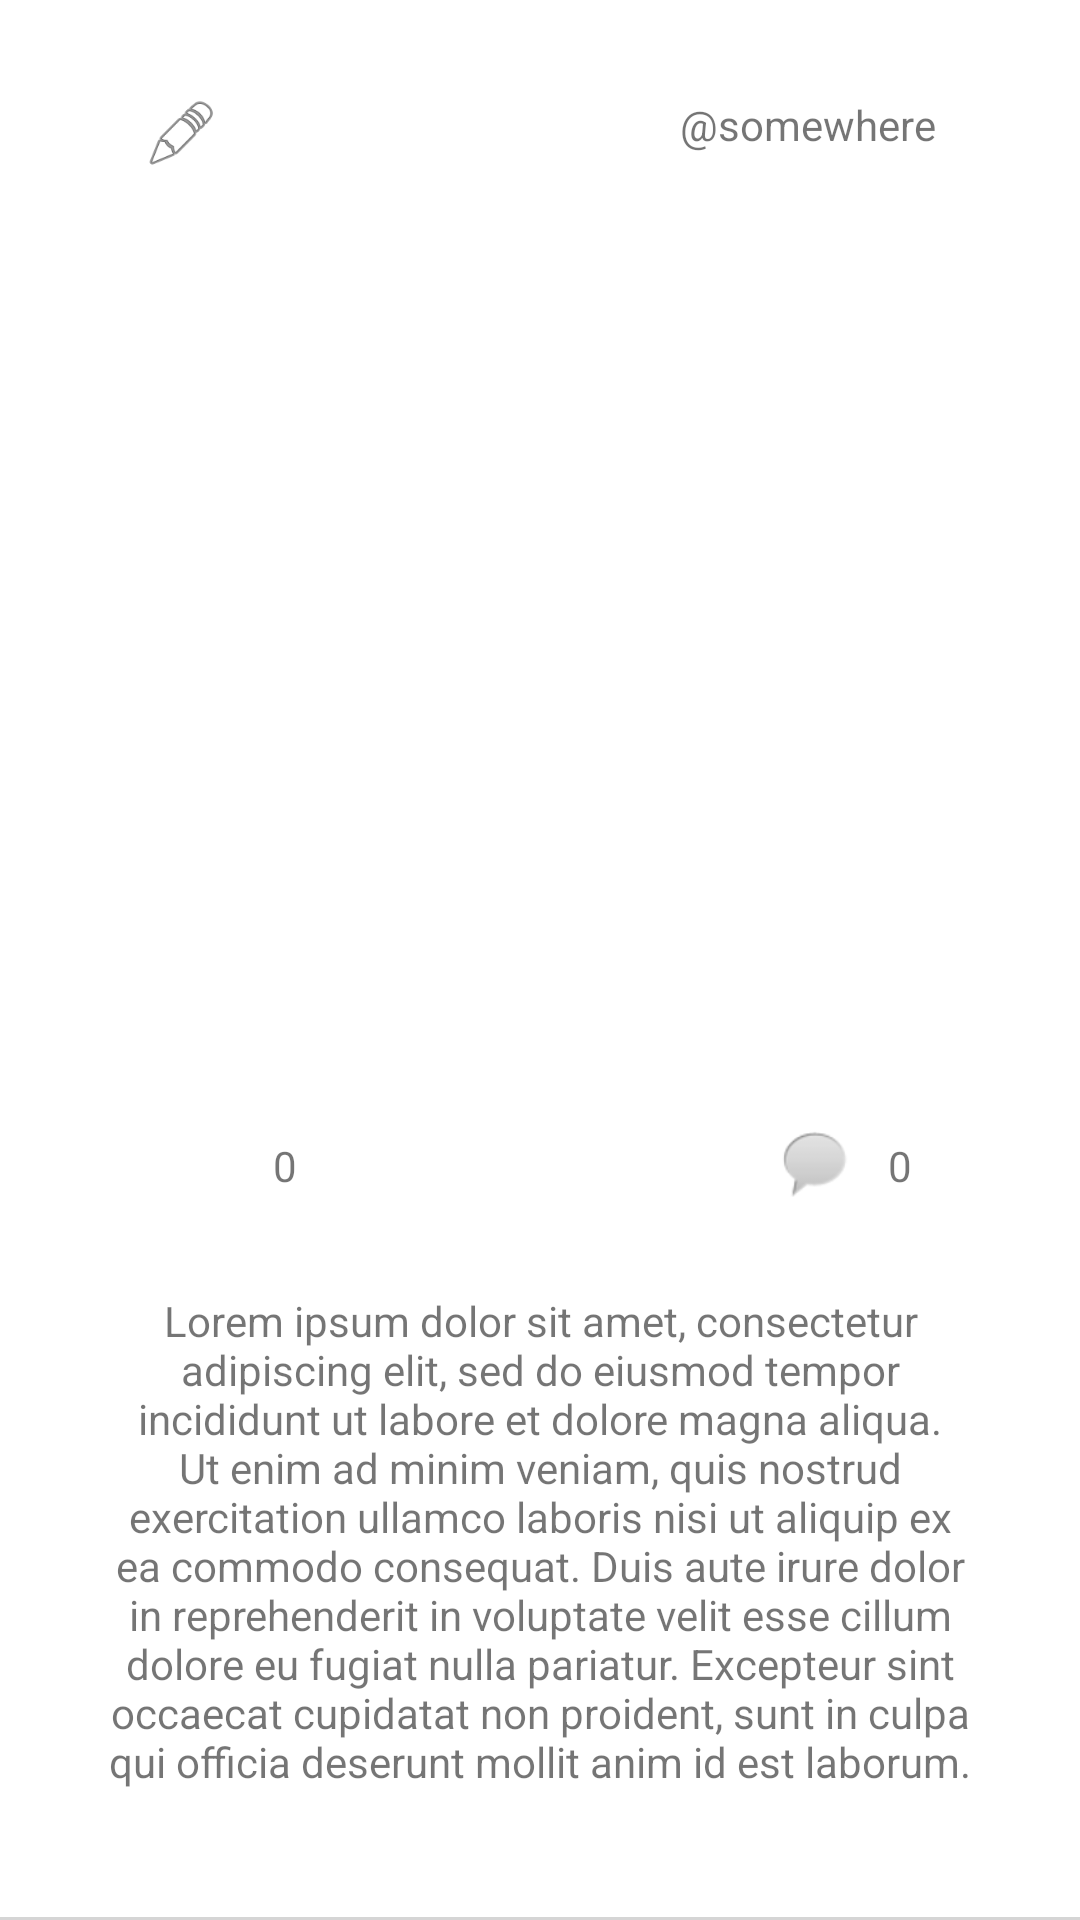

Icons on this 1080px×1920px Android screen, each with its box as (left=x1, top=y1, right=x2, bottom=y2):
edit: (left=149, top=101, right=213, bottom=165)
sym action chat: (left=784, top=1132, right=845, bottom=1196)
